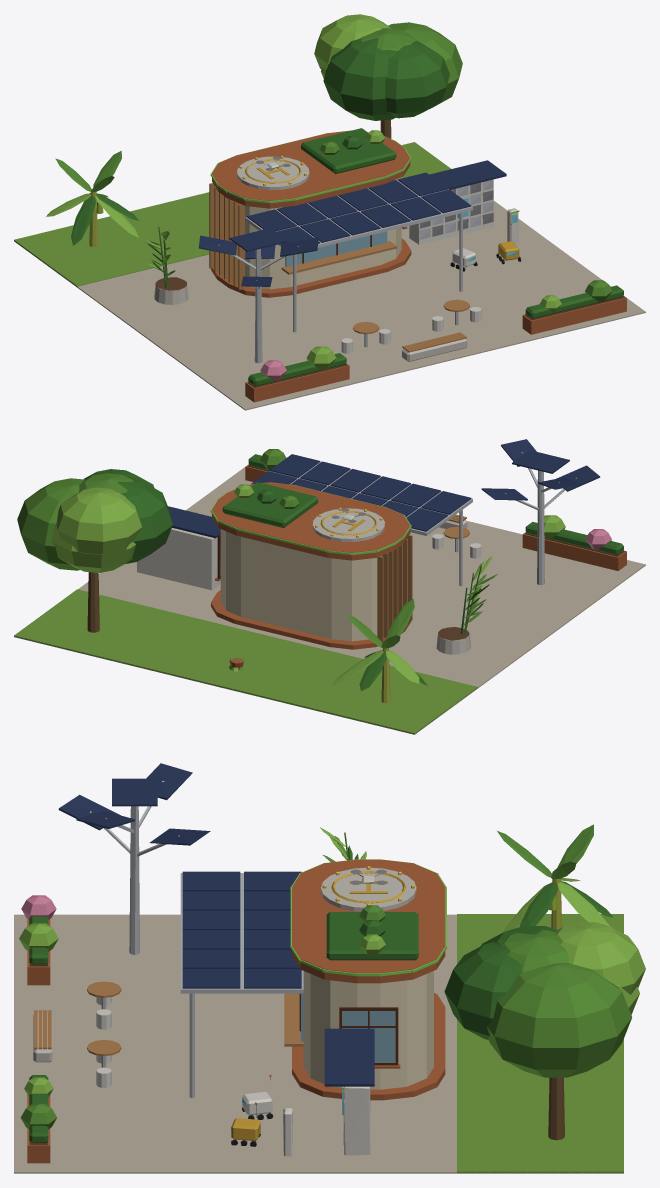
The model's file is shop_1.glb.
3 renders of one model, top to bottom at view 1: azimuth 30°, elevation 25°; view 2: azimuth 150°, elevation 25°; view 3: azimuth 270°, elevation 25°, orthographic. The views are drawn at different scales.
Visible parts, largest first — view 1: body, windows; view 2: body, windows; view 3: body, windows.
Boxes of the visible parts, x1=… form: body: x1=14, y1=14, x2=645, y2=410; windows: x1=210, y1=130, x2=519, y2=261; body: x1=14, y1=439, x2=645, y2=734; windows: x1=210, y1=482, x2=411, y2=555; body: x1=14, y1=763, x2=645, y2=1173; windows: x1=231, y1=859, x2=446, y2=1129.
Size of the model in its own units: 16.44 by 6.05 by 16.48.
